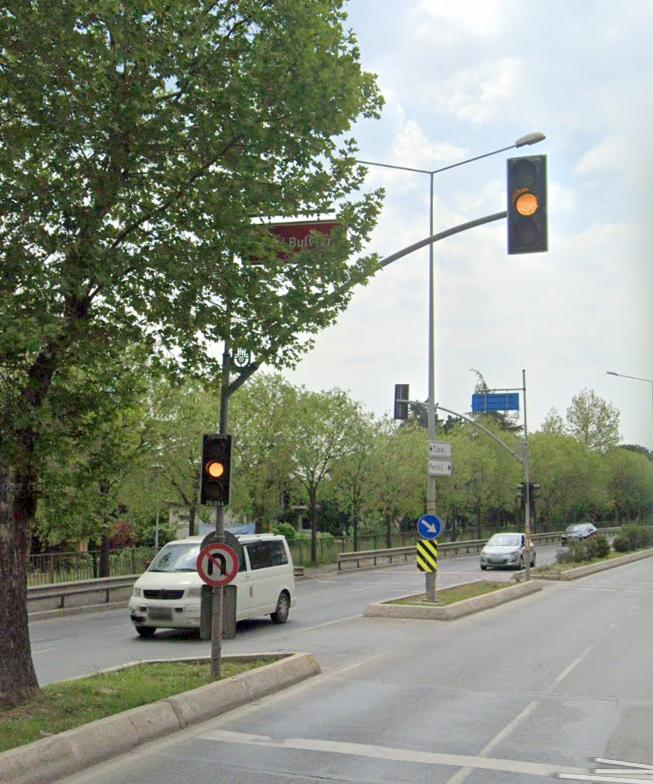yellowlight: (509, 157, 549, 254), (200, 433, 229, 509)
